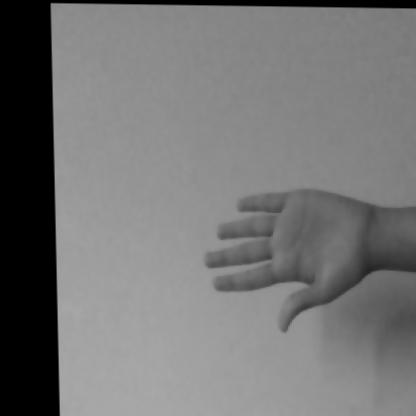palm: (175, 148, 398, 355)
